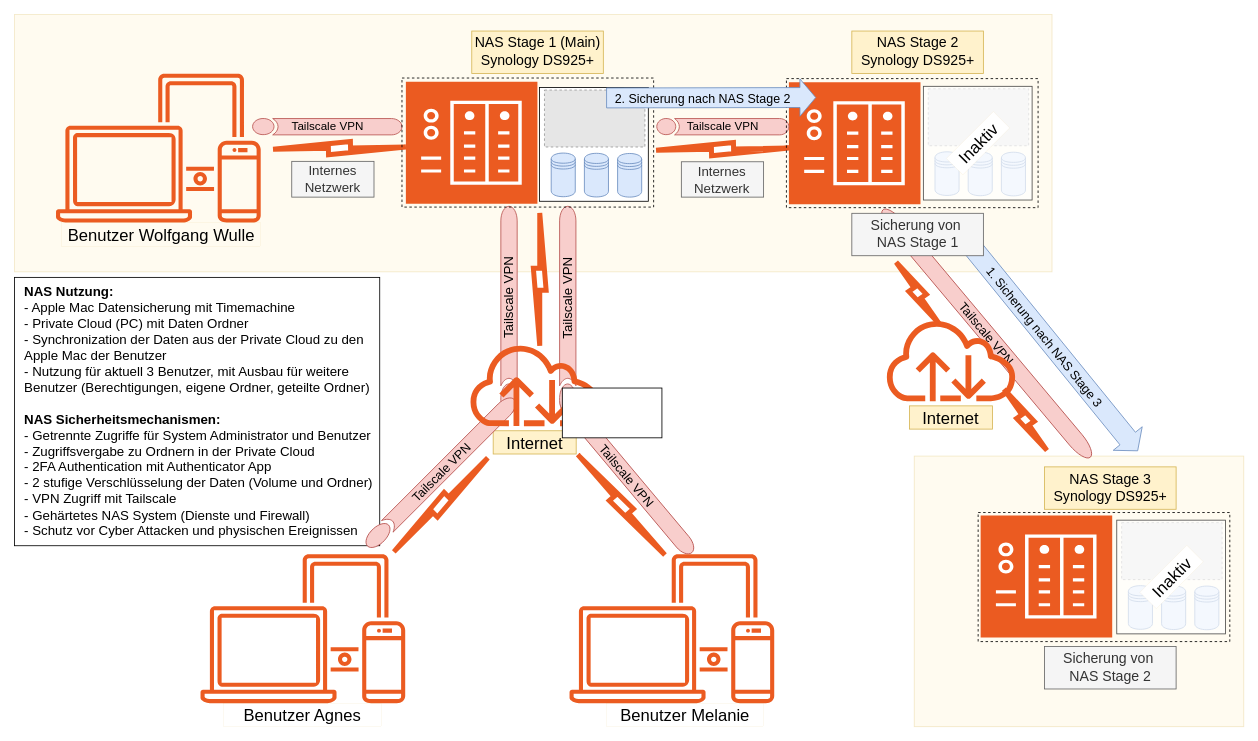
Some shapes in this 1258 by 741 pixel diagram are drawn without their labels. Grey dashed boxes stand in for pictures. The shapes that lost their labels are listed below. From the top down, each one's box as (x1, y1, x2, y2) in pixels, then its label:
(14, 14, 1052, 272): Standort Zollikon (CH)
(913, 455, 1244, 727): Externer Standort
